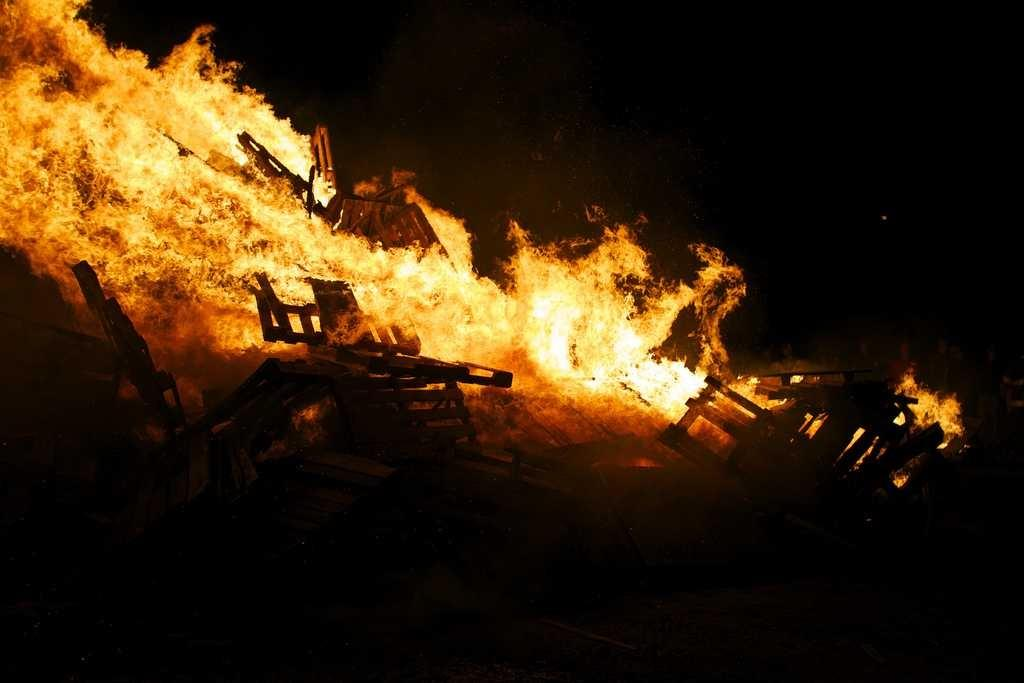fire: (5, 75, 227, 248), (517, 248, 705, 405), (372, 277, 508, 357), (235, 183, 328, 283)
